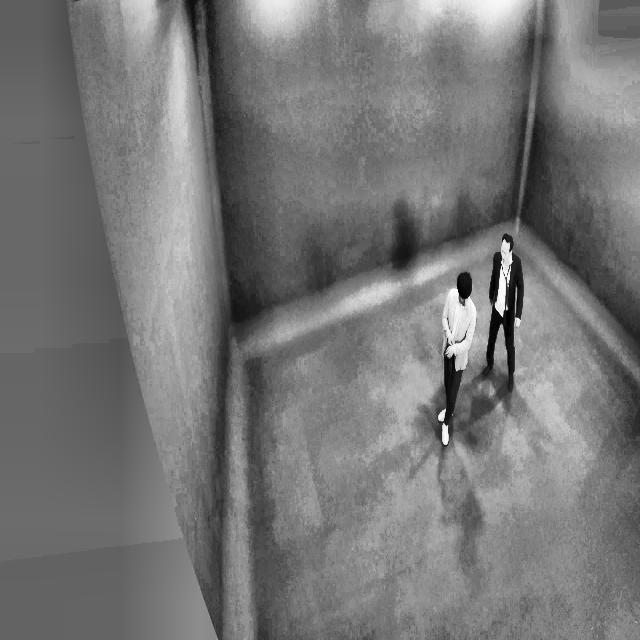assult: (435, 216, 525, 464)
